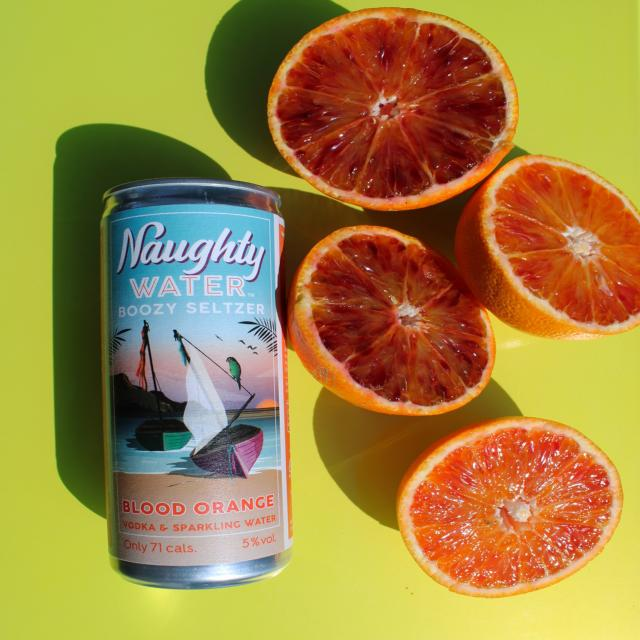can: (101, 178, 292, 590)
